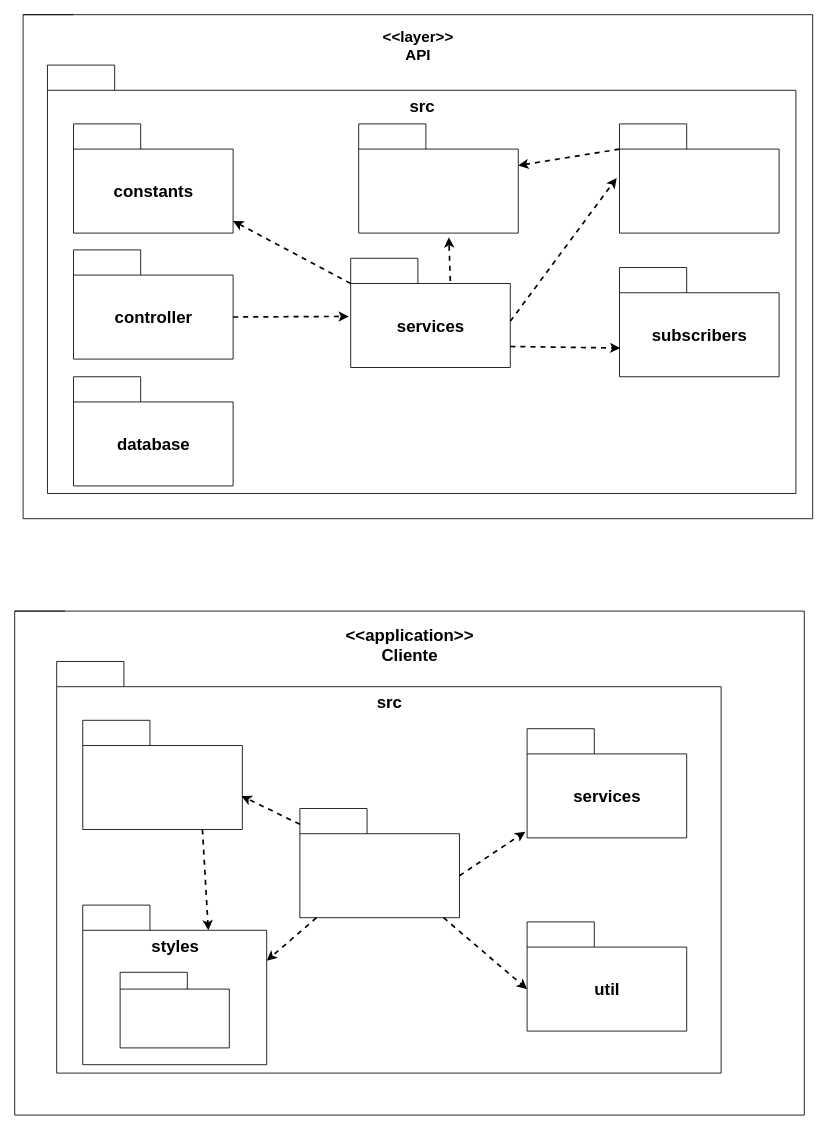
The diagram is 827 pixels wide and 1130 high, and some of its shapes have lost their labels. The shapes that lost their labels are listed below. From the top down, each one's box as (x1, y1, x2, y2) in pixels, then its label:
(358, 123, 518, 233): model
(619, 123, 779, 233): repositores
(82, 719, 242, 830): components
(299, 808, 459, 918): pages
(119, 971, 229, 1048): colors
